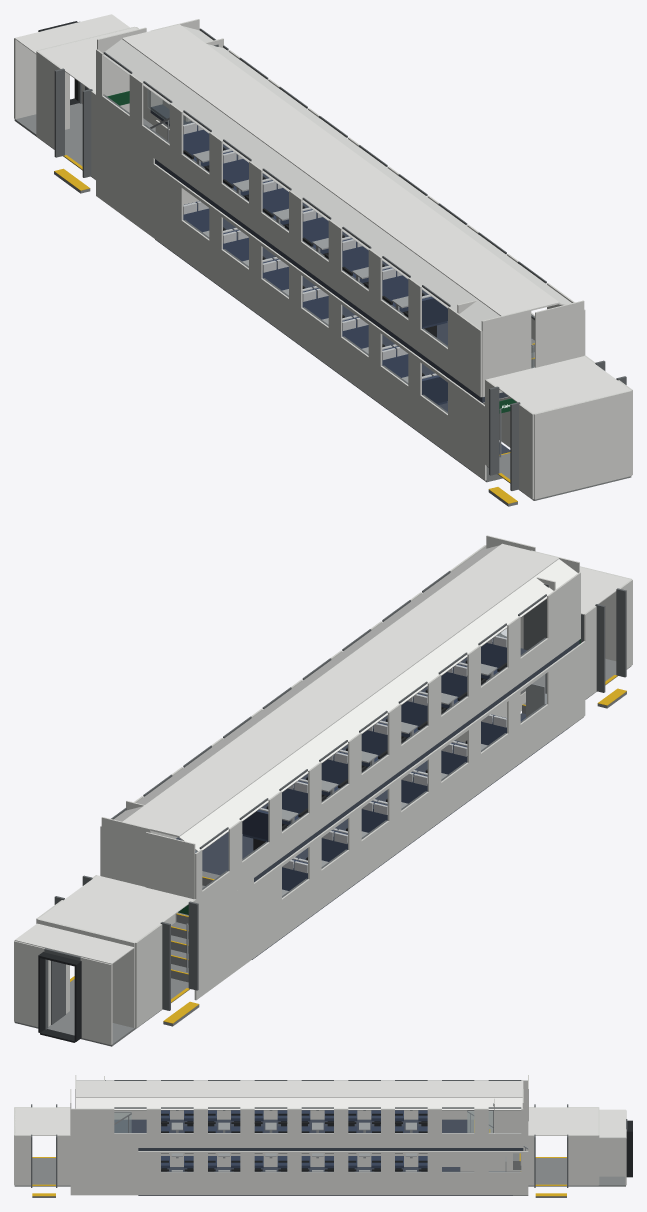
File: edo_sisa_m.glb
3 renders of one model, top to bottom at view 1: azimuth 30°, elevation 25°; view 2: azimuth 150°, elevation 25°; view 3: azimuth 270°, elevation 25°, orthographic. The views are drawn at different scales.
Parts seen in each view (by area): view 1: sisa_S_seina, sisa_S_katto, sisa_S_verhoilu, sisa_S_kehys, sisa_S_matto, sisa_S_niskatuki, sisa_S_muovimatto, sisa_S_poyta, sisa_S_tumma; view 2: sisa_S_seina, sisa_S_katto, sisa_S_kehys, sisa_S_verhoilu, sisa_S_matto, sisa_S_muovimatto, sisa_S_niskatuki, sisa_S_tumma, sisa_S_poyta, sisa_S_teras, sisa_S_askelreuna; view 3: sisa_S_seina, sisa_S_katto, sisa_S_matto, sisa_S_verhoilu, sisa_S_muovimatto, sisa_S_tumma, sisa_S_kehys, sisa_S_poyta, sisa_S_lasi, sisa_S_askelreuna, sisa_S_teras.
Boxes of the visible parts, x1=… form: sisa_S_seina: x1=14, y1=19, x2=632, y2=499; sisa_S_katto: x1=14, y1=14, x2=630, y2=413; sisa_S_verhoilu: x1=183, y1=122, x2=447, y2=404; sisa_S_kehys: x1=44, y1=21, x2=626, y2=490; sisa_S_matto: x1=150, y1=104, x2=531, y2=472; sisa_S_niskatuki: x1=183, y1=122, x2=437, y2=378; sisa_S_muovimatto: x1=14, y1=103, x2=631, y2=506; sisa_S_poyta: x1=193, y1=150, x2=408, y2=382; sisa_S_tumma: x1=38, y1=21, x2=436, y2=376; sisa_S_seina: x1=14, y1=535, x2=632, y2=1044; sisa_S_katto: x1=14, y1=543, x2=630, y2=964; sisa_S_kehys: x1=44, y1=571, x2=626, y2=1029; sisa_S_verhoilu: x1=242, y1=635, x2=525, y2=890; sisa_S_matto: x1=176, y1=640, x2=579, y2=959; sisa_S_muovimatto: x1=14, y1=658, x2=631, y2=1046; sisa_S_niskatuki: x1=259, y1=635, x2=506, y2=873; sisa_S_tumma: x1=38, y1=660, x2=506, y2=1042; sisa_S_poyta: x1=282, y1=663, x2=497, y2=895; sisa_S_teras: x1=175, y1=633, x2=546, y2=972; sisa_S_askelreuna: x1=70, y1=675, x2=626, y2=1023; sisa_S_seina: x1=14, y1=1075, x2=626, y2=1195; sisa_S_katto: x1=14, y1=1081, x2=625, y2=1138; sisa_S_matto: x1=114, y1=1119, x2=523, y2=1195; sisa_S_verhoilu: x1=161, y1=1110, x2=427, y2=1168; sisa_S_muovimatto: x1=14, y1=1119, x2=625, y2=1197; sisa_S_tumma: x1=161, y1=1113, x2=632, y2=1177; sisa_S_kehys: x1=31, y1=1080, x2=627, y2=1187; sisa_S_poyta: x1=171, y1=1122, x2=416, y2=1171; sisa_S_lasi: x1=114, y1=1111, x2=492, y2=1132; sisa_S_askelreuna: x1=32, y1=1120, x2=566, y2=1196; sisa_S_teras: x1=114, y1=1110, x2=528, y2=1171.
Bounding box in the file's own units: 3.1 × 3.94 × 23.8.
